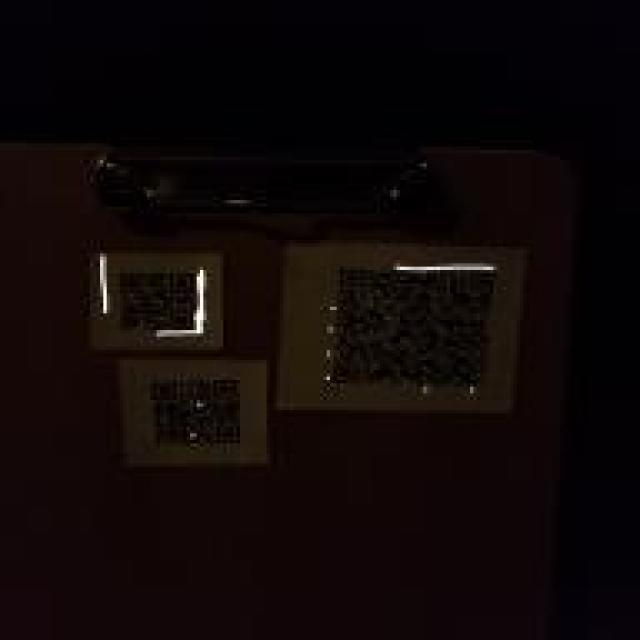QR_CODE: (310, 250, 510, 403), (142, 367, 260, 458), (109, 260, 214, 337)
